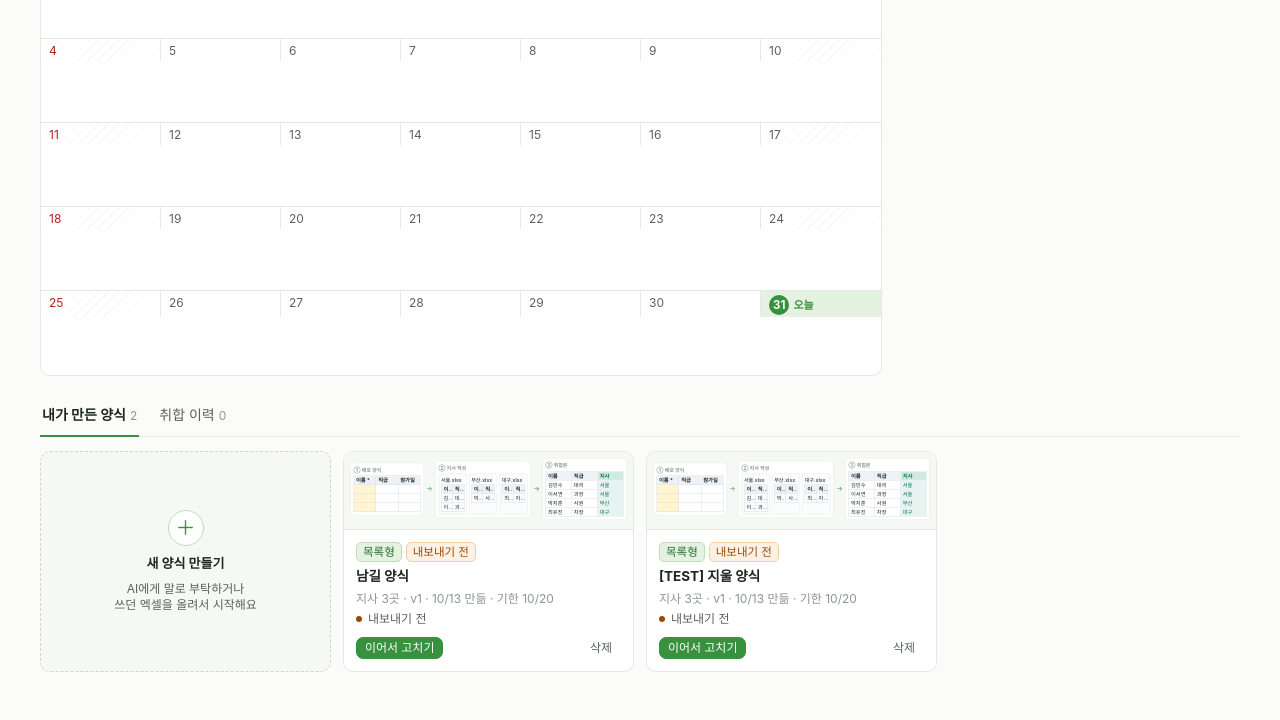
Test: 내 양식 삭제: 확인 창에서 [삭제]를 눌러야 지워지고, 목록에서 바로 사라진다
(page scrolled)
Click the button with aria-label "[TEST] 지울 양식 삭제" at (904, 648), box [884,636,924,658]
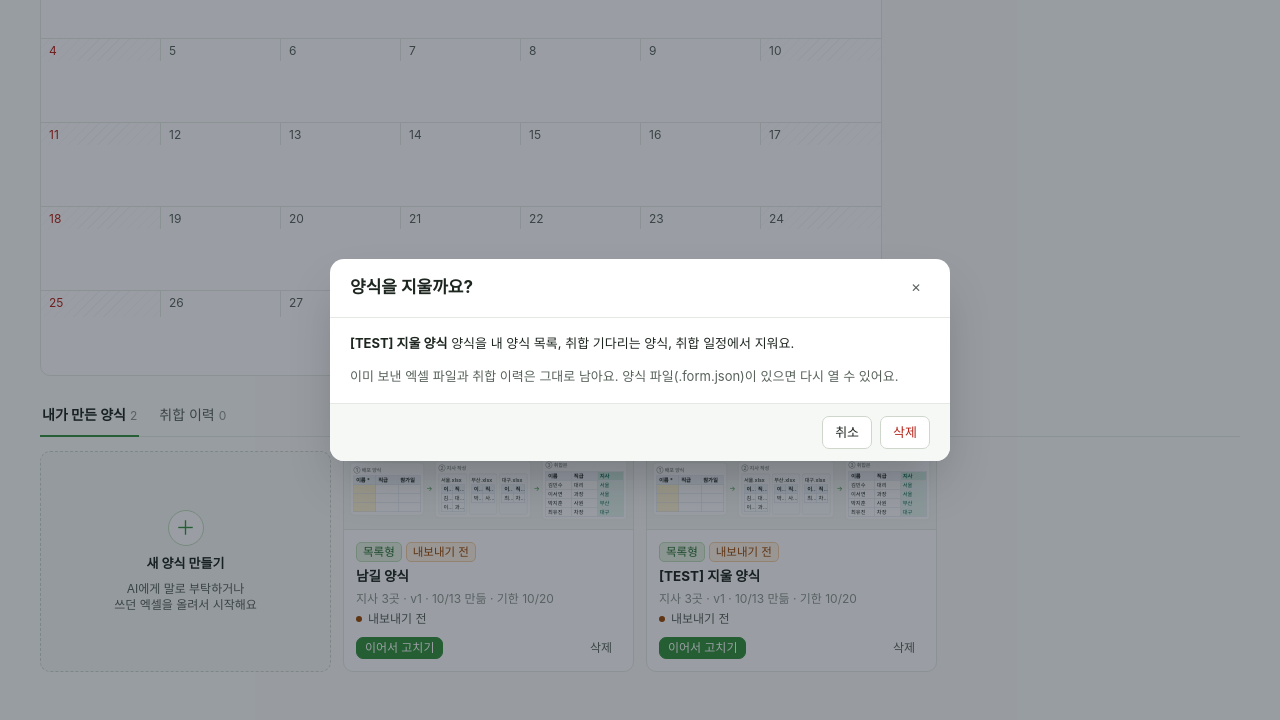
Click the button "취소" at (847, 432), box [822,416,872,449]
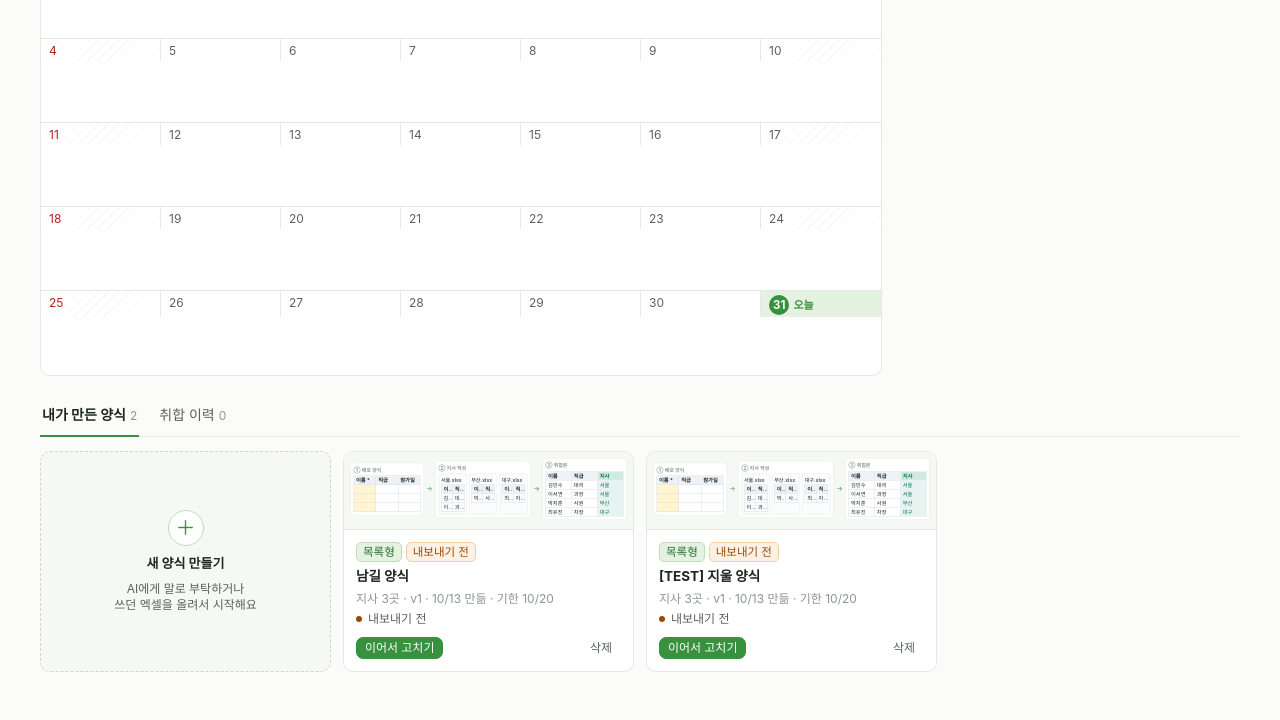
Click the button with aria-label "[TEST] 지울 양식 삭제" at (904, 648), box [884,636,924,658]
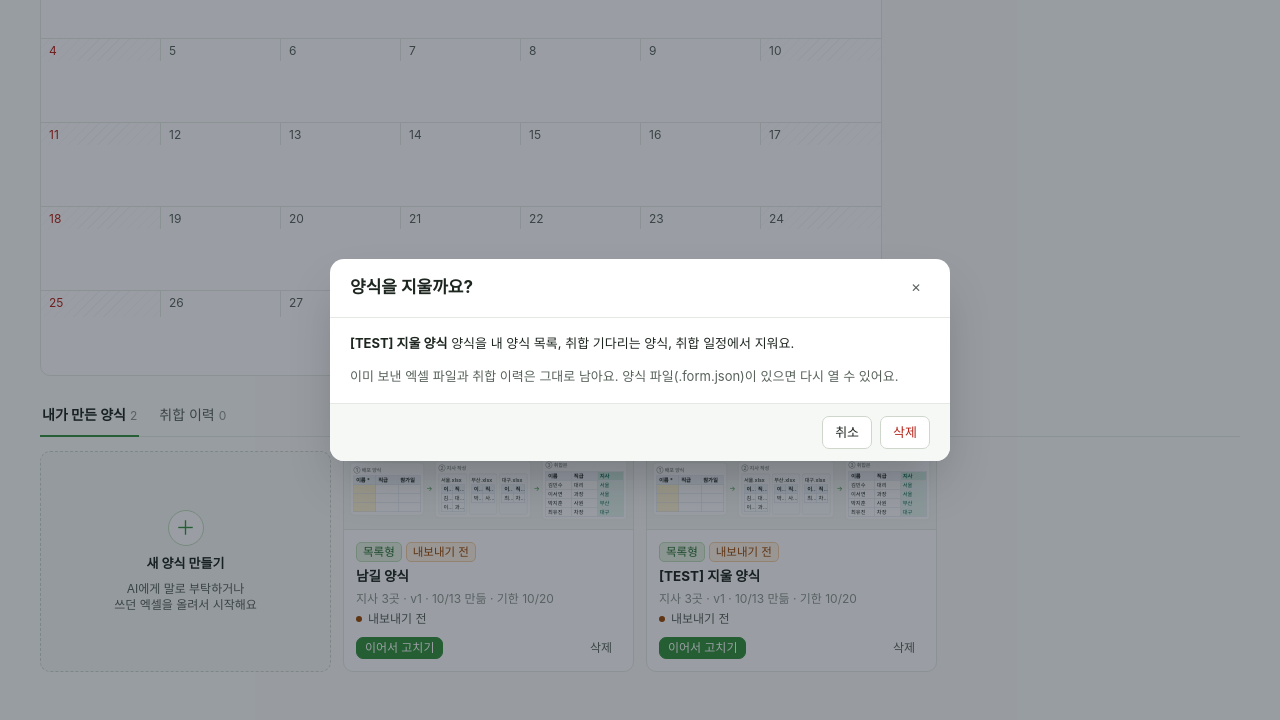
Click the button "삭제" at (905, 432), box [880,416,930,449]
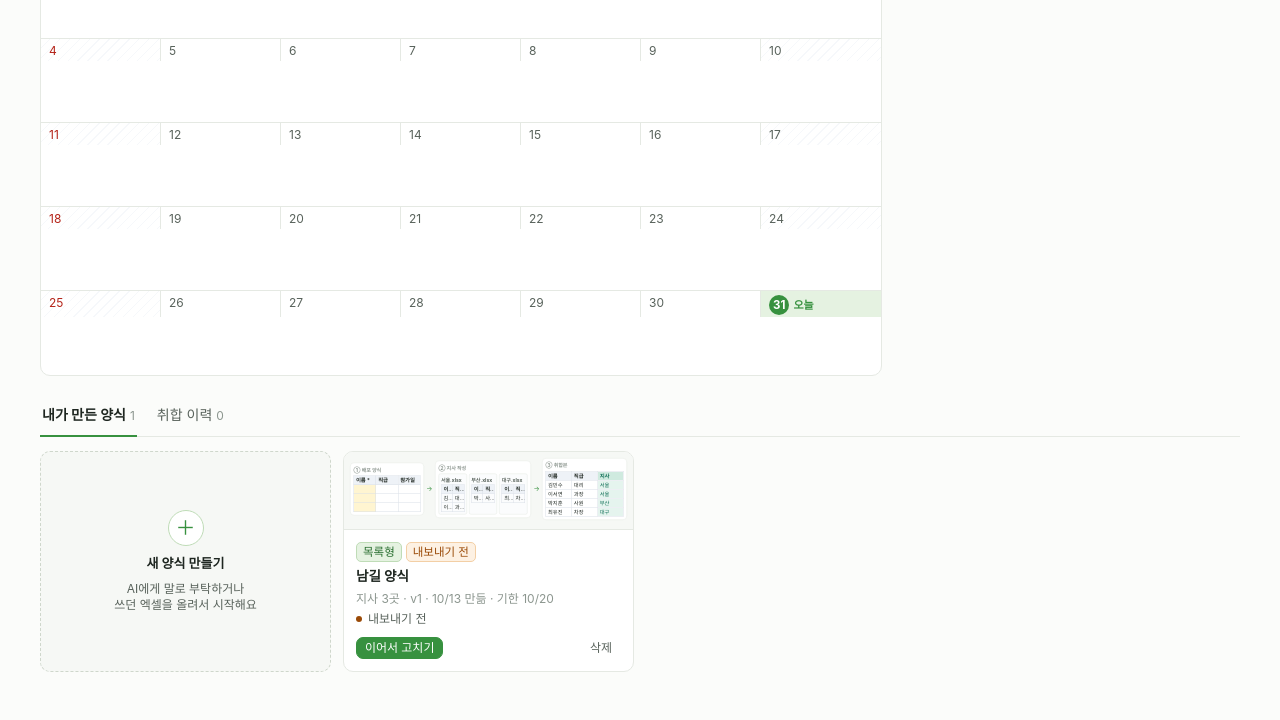
Expected: the text "남길 양식" is shown, [356,568,409,584]
Result: the text "[TEST] 지울 양식" is gone
